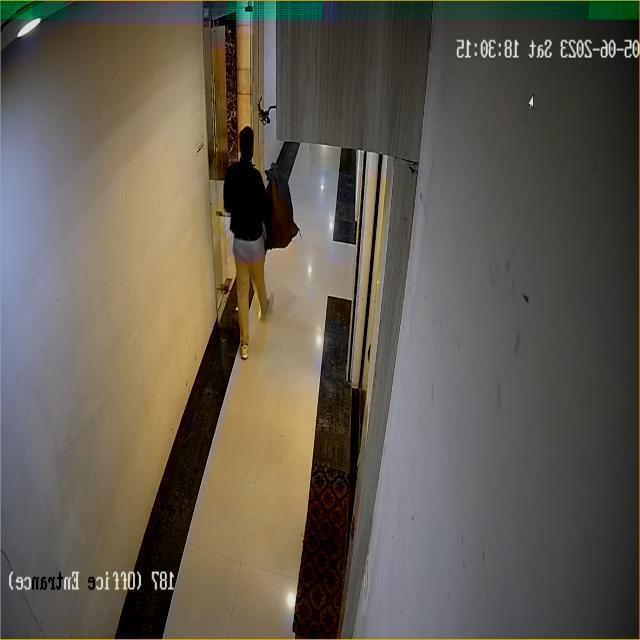gunny_bag: (262, 166, 300, 248)
